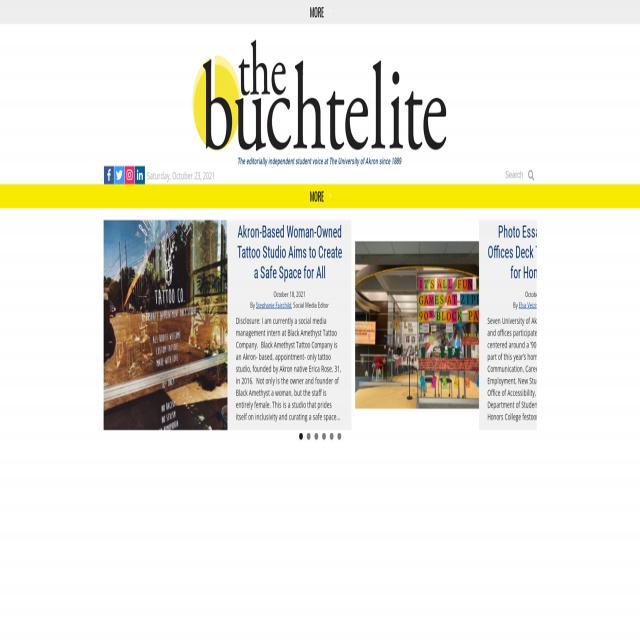button: (104, 219, 351, 431), (356, 222, 537, 430), (186, 33, 454, 168), (125, 165, 135, 184), (136, 165, 145, 184), (105, 166, 114, 183), (115, 166, 124, 183), (320, 432, 328, 442), (313, 432, 320, 442), (298, 432, 304, 442), (336, 432, 342, 441), (306, 432, 311, 442), (329, 432, 334, 441)
field: (494, 164, 538, 183)
